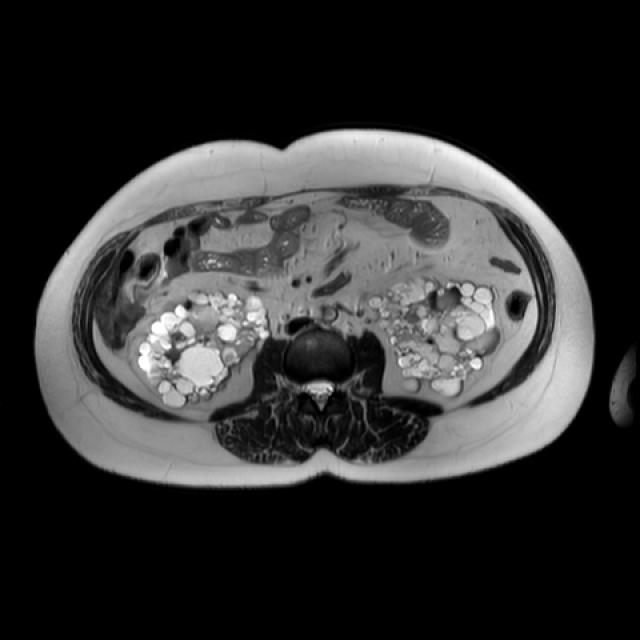sag: (141, 289, 269, 406)
sol: (369, 276, 497, 398)
